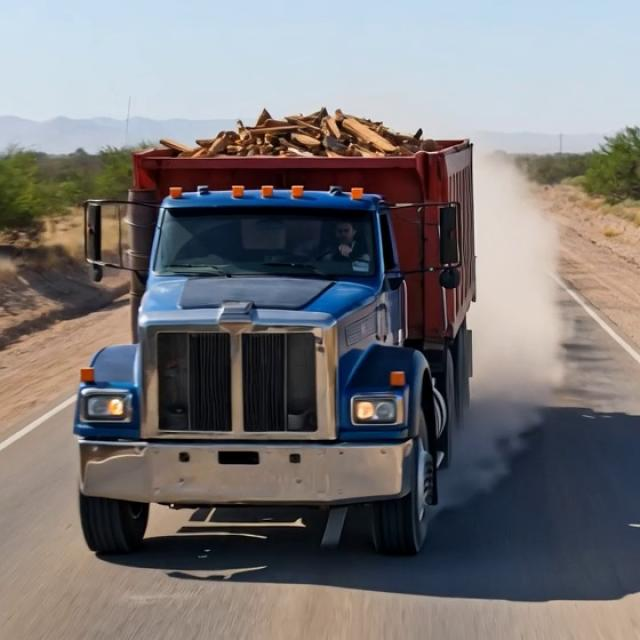Box: (123, 102, 476, 179)
Truck: (71, 91, 513, 564)
